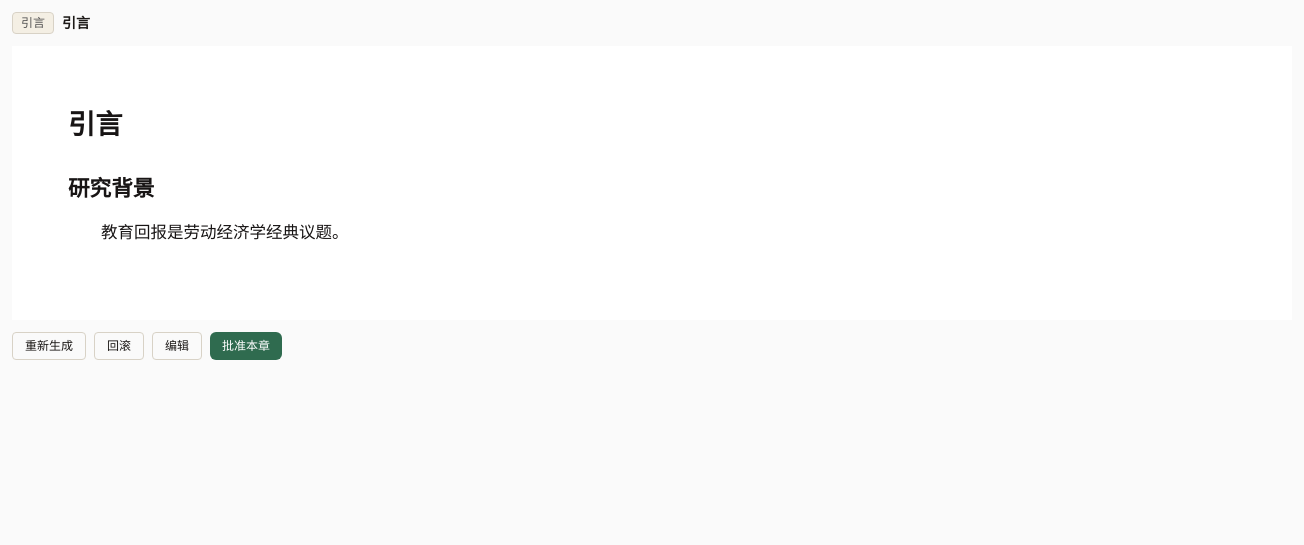
Test: ChapterWriter T-08c 扩展：4 按钮 + 回滚 + 编辑模式 › 点击"回滚"按钮显示版本历史下拉
Click the button "回滚".
click(119, 346)  # box [94,332,144,360]
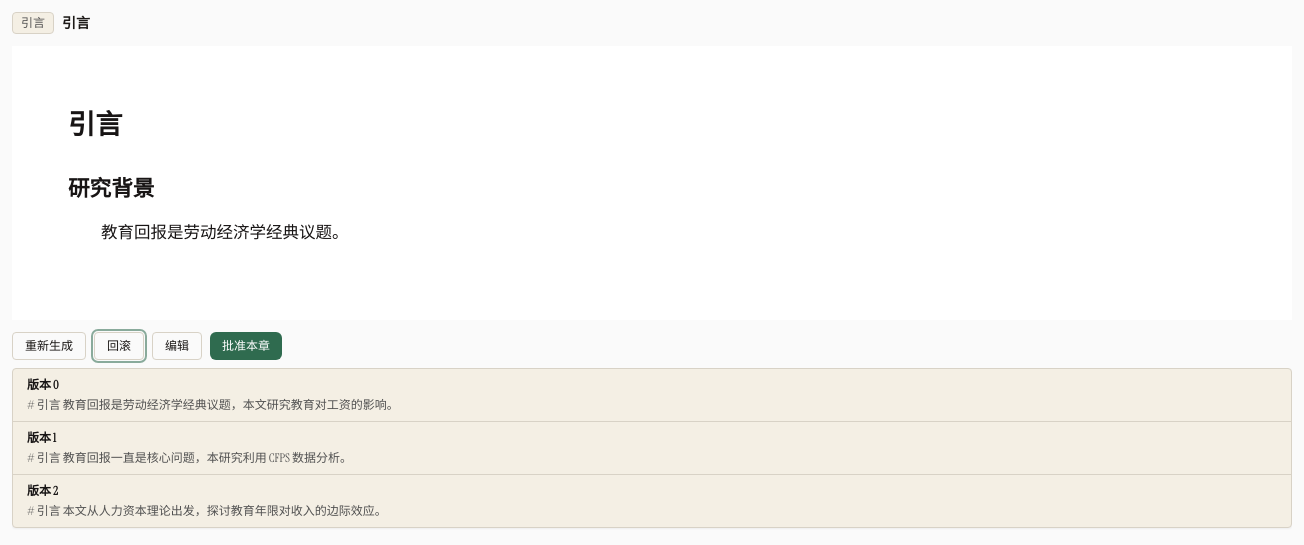
Expected: the element with test id "version-history" is shown, [12,368,1292,528]
